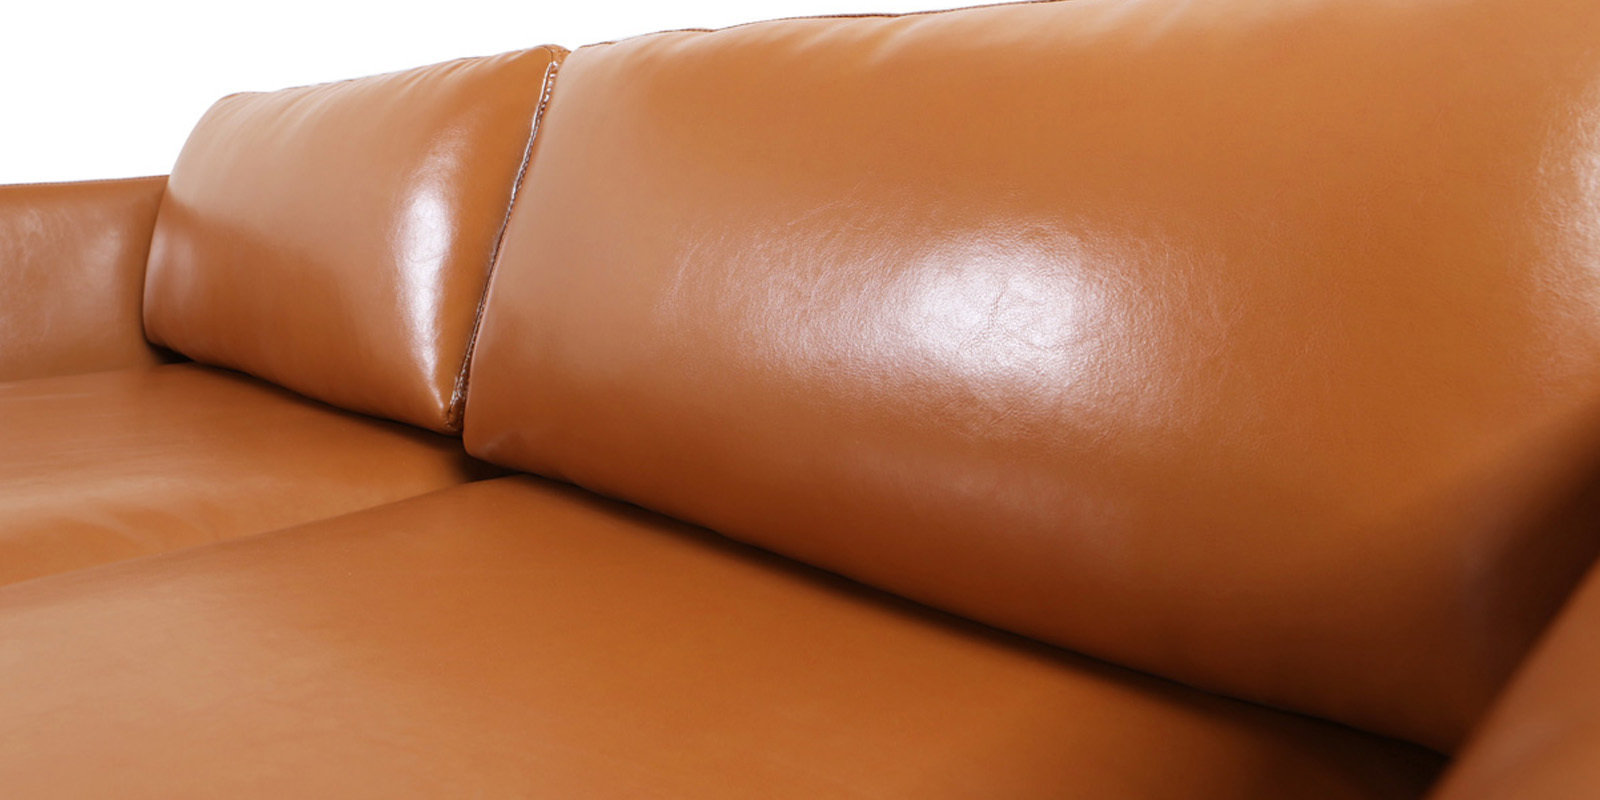Forma Three Seater Sofa in Camel Colour by Zofa: (8, 1, 1590, 799)
